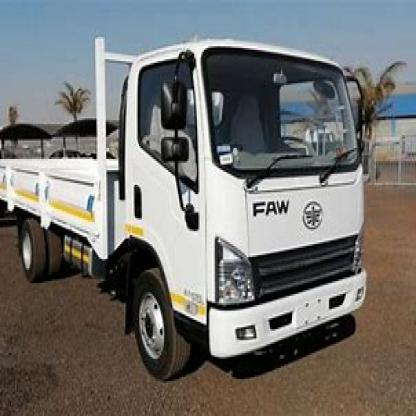dump_truck: (7, 19, 373, 382)
